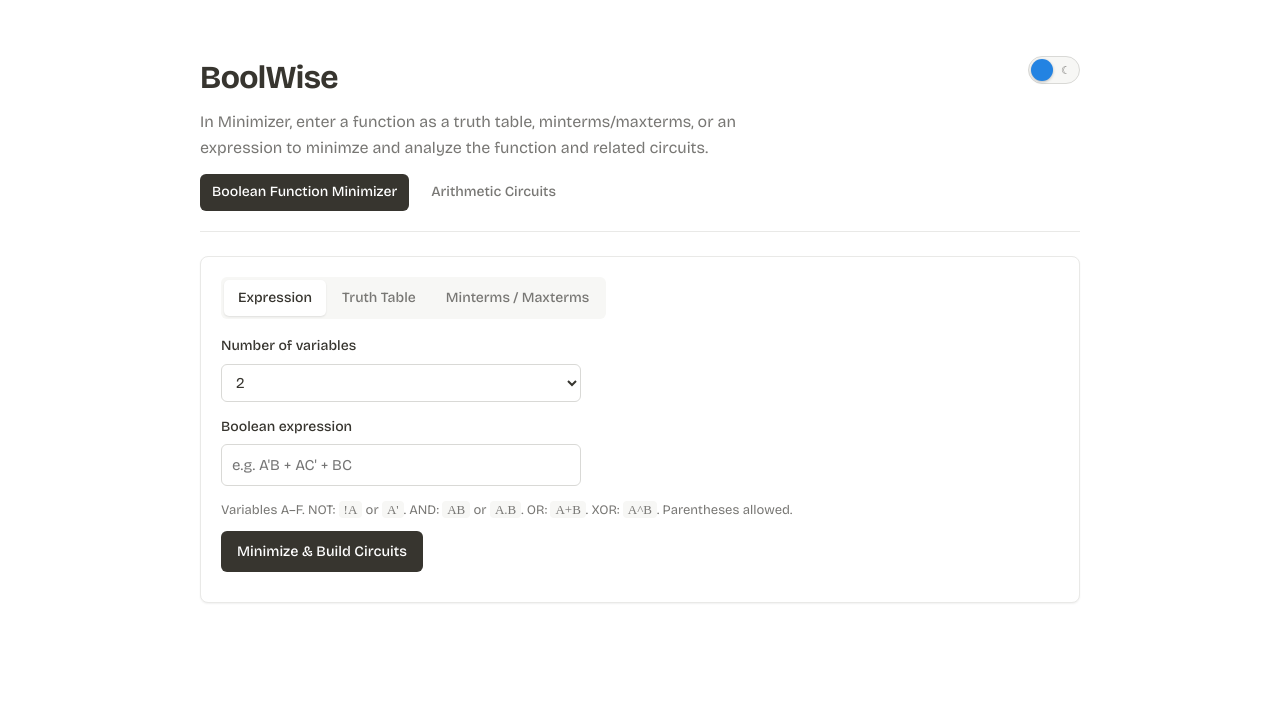
Test: MinimizerPage › minterms + dont-cares mode works and verifies
Click the tab "Minterms / Maxterms" at [518, 298], box [432,280,603,316]
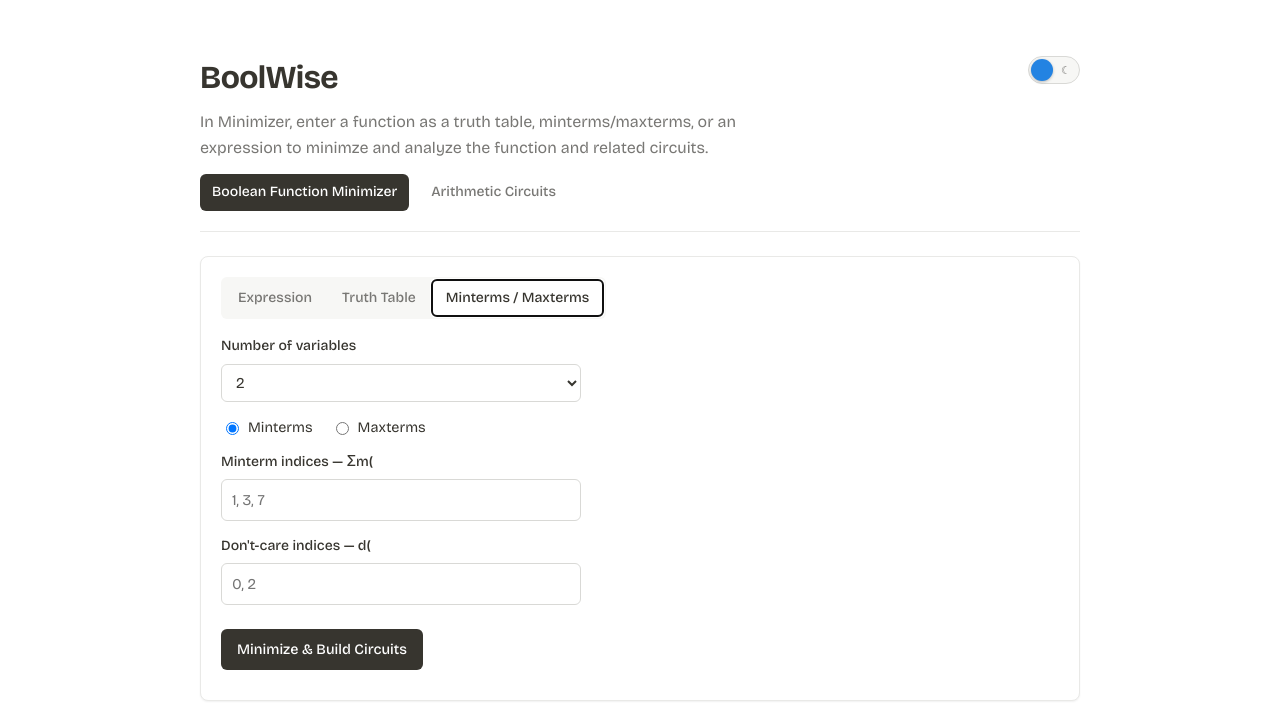
Select "4" in the dropdown labelled "Number of variables" at [401, 382], box [221,364,581,402]
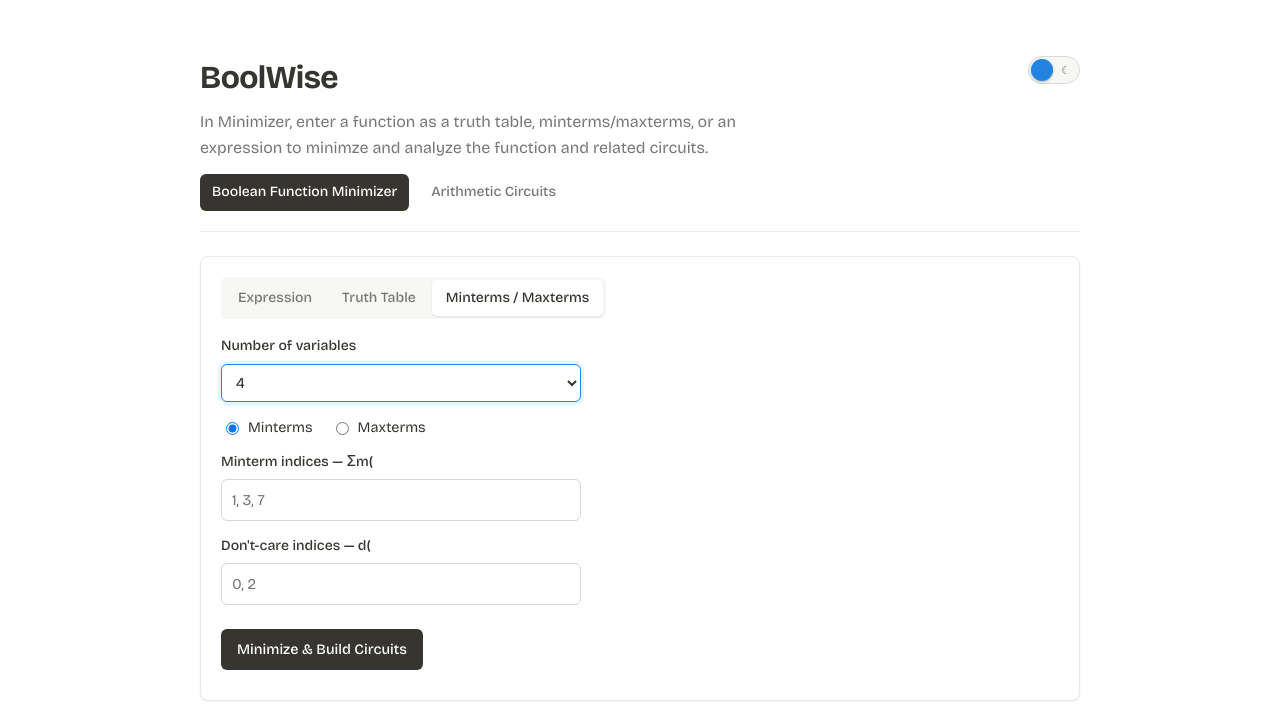
Type "1,3,5,7,9,11,13,15" into the field labelled "Minterm indices — Σm(" at [401, 500], box [221,479,581,521]
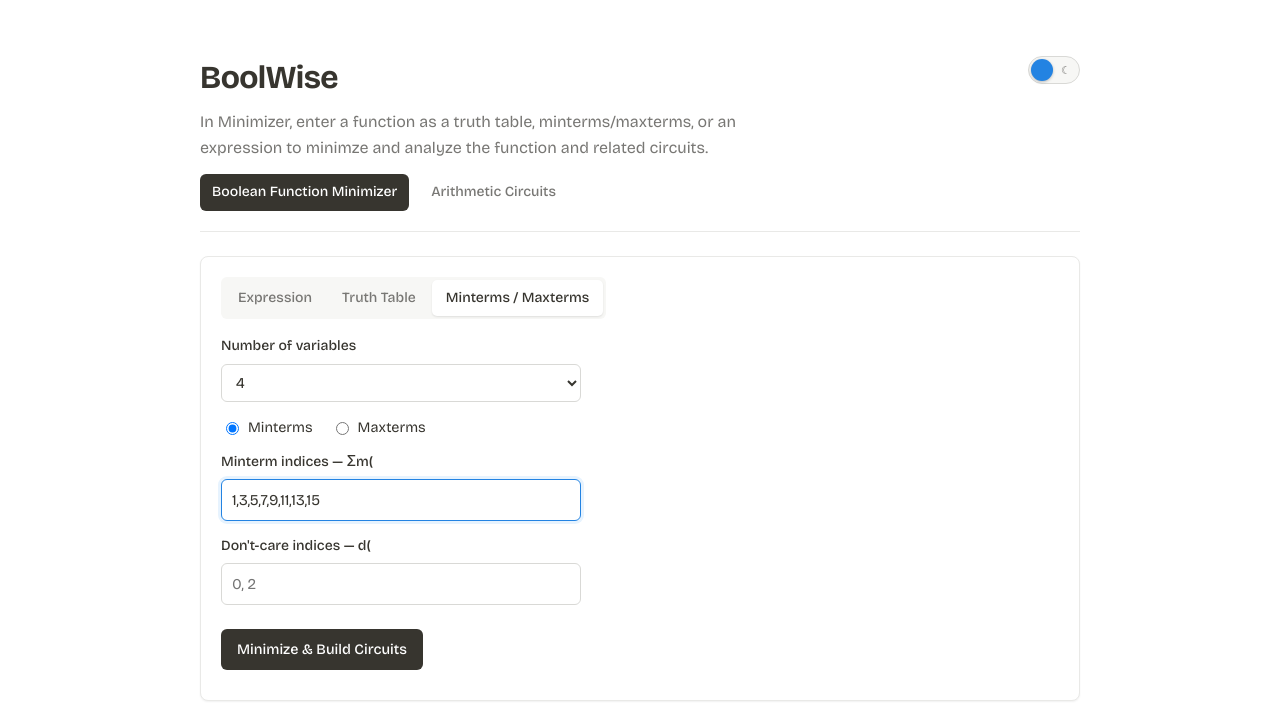
Click the button "Minimize & Build Circuits" at [322, 650], box [221,629,423,670]
(page scrolled)
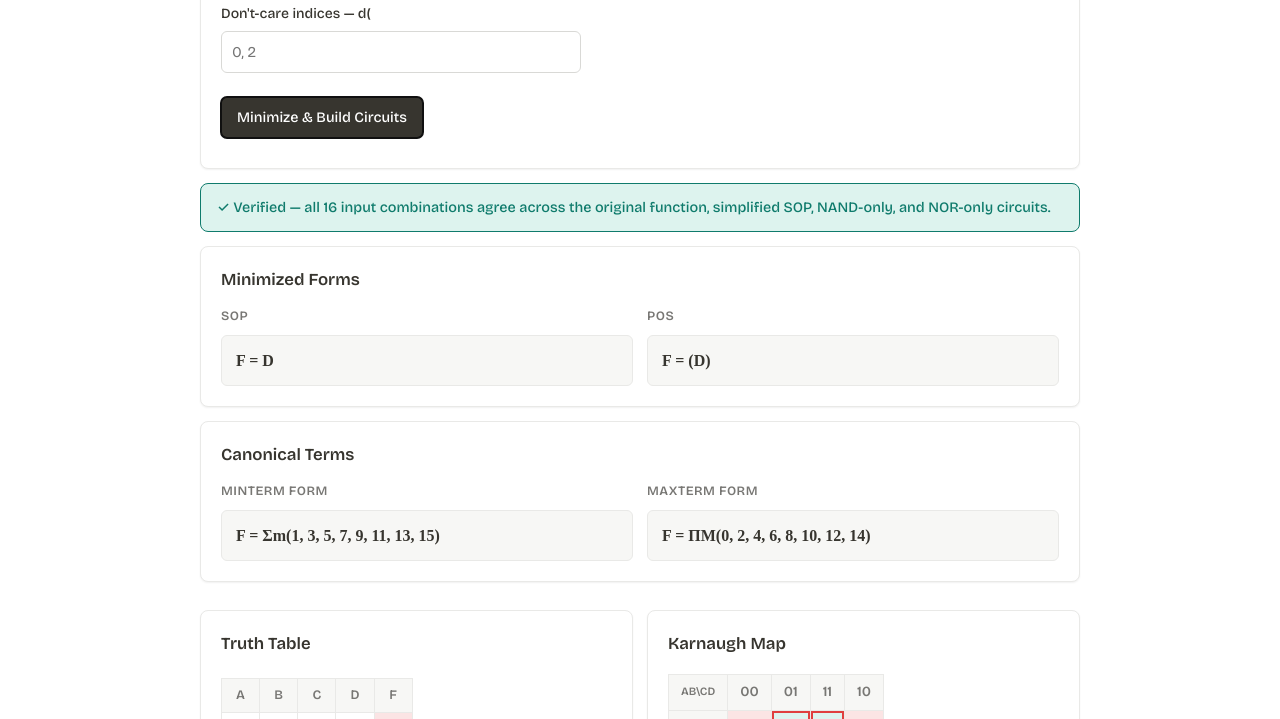
Result: the text "input combinations agree" is shown at [217,199,1051,216]
Result: the text "F = D" is shown at [221,335,633,386]
